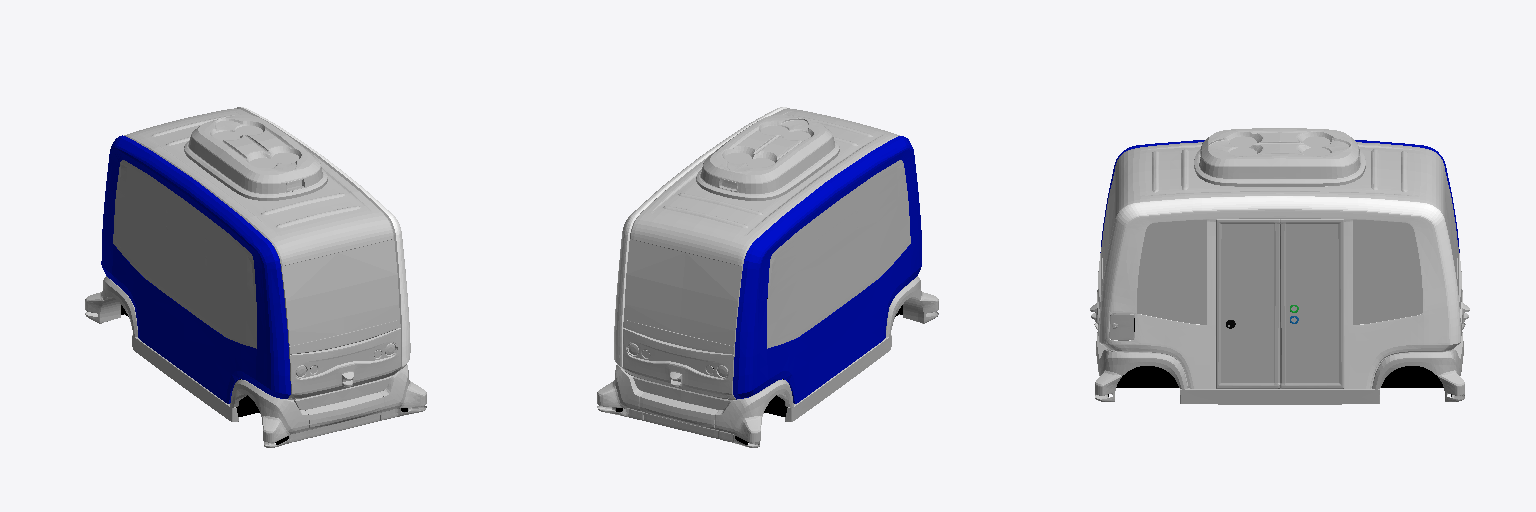
The model's file is ezmile_gen0_chassis.obj.
3 renders of one model, left to right at view 1: azimuth 30°, elevation 25°; view 2: azimuth 150°, elevation 25°; view 3: azimuth 270°, elevation 25°, orthographic.
Parts seen in each view (by area): view 1: Roof_low; view 2: Roof_low; view 3: Roof_low.
Part boxes in pixels (left/top/right/bottom): Roof_low: left=85, top=107, right=426, bottom=447; Roof_low: left=597, top=107, right=938, bottom=447; Roof_low: left=1090, top=128, right=1469, bottom=404.
Bounding box in the file's own units: 1.98 × 2.64 × 4.01.